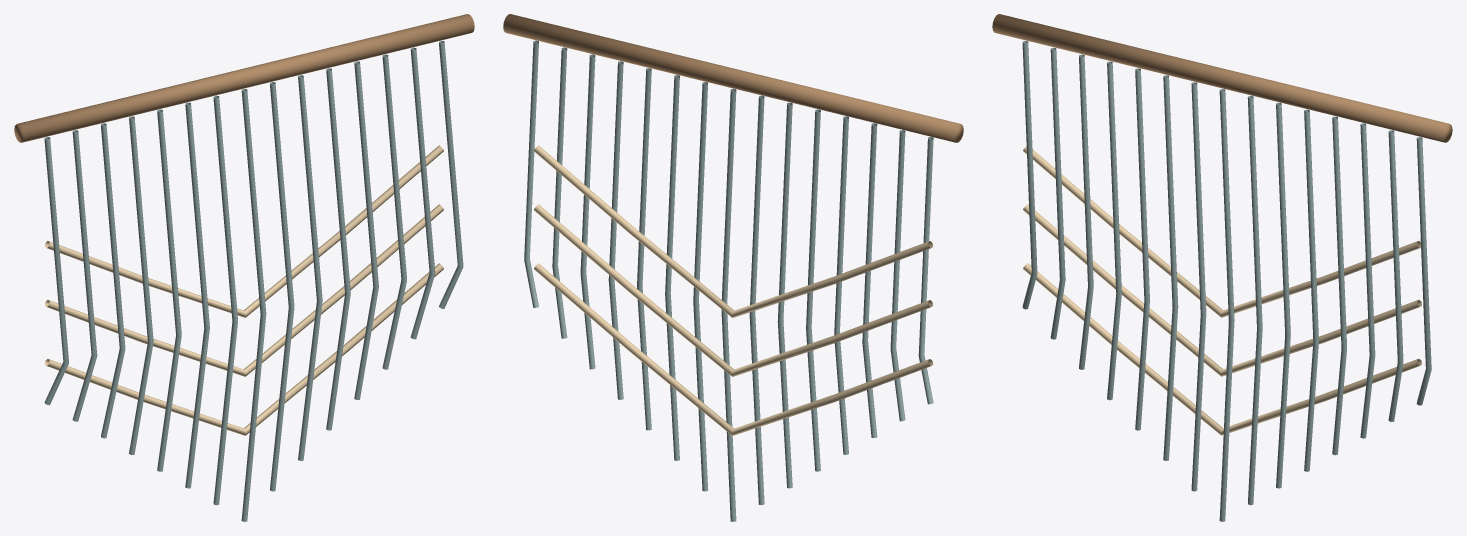
File: atelier-macram-wall-hanging.glb
3 views of the same model, side by side, from view 1: azimuth 30°, elevation 25°; view 2: azimuth 150°, elevation 25°; view 3: azimuth 330°, elevation 25° (orthographic).
Visible parts, largest first — view 1: fabric.058, legs.122, accent.017; view 2: fabric.058, accent.017, legs.122; view 3: fabric.058, legs.122, accent.017.
Part boxes in pixels (<box>): fabric.058: <box>44,40,463,521</box>; legs.122: <box>14,14,474,142</box>; accent.017: <box>45,145,443,435</box>; fabric.058: <box>524,40,933,521</box>; accent.017: <box>534,145,933,435</box>; legs.122: <box>503,14,963,142</box>; fabric.058: <box>1022,41,1431,521</box>; legs.122: <box>992,14,1452,142</box>; accent.017: <box>1023,146,1421,435</box>.
Bounding box in the file's own units: 0.8 × 0.7653 × 0.0344.
